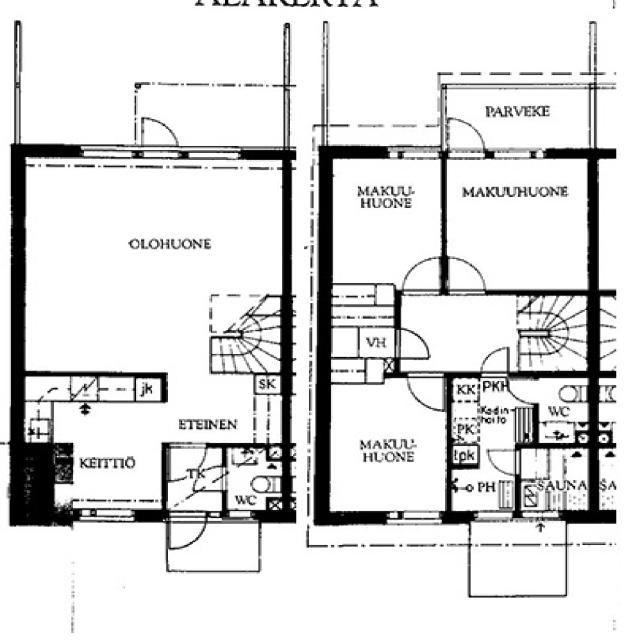door: (172, 449, 231, 500), (444, 254, 492, 296), (397, 254, 444, 295), (166, 511, 208, 553), (404, 371, 447, 412), (445, 115, 488, 155), (137, 114, 182, 150), (392, 324, 437, 360), (474, 342, 516, 378), (486, 447, 522, 478), (197, 467, 230, 493)
window: (74, 504, 142, 528), (183, 146, 247, 164), (77, 144, 139, 162), (386, 508, 446, 526), (490, 146, 545, 162), (396, 145, 441, 162), (472, 510, 514, 525), (225, 509, 258, 523), (520, 510, 548, 523), (385, 146, 402, 160)
zone: (444, 153, 593, 293), (325, 372, 453, 518), (37, 377, 165, 516), (327, 155, 444, 288), (171, 373, 285, 445), (448, 374, 532, 448), (212, 292, 282, 365), (519, 446, 590, 514), (329, 308, 398, 376), (224, 444, 286, 516), (534, 374, 592, 444), (165, 445, 225, 504), (448, 465, 518, 515), (328, 284, 395, 322), (597, 292, 620, 374), (451, 444, 480, 466)
